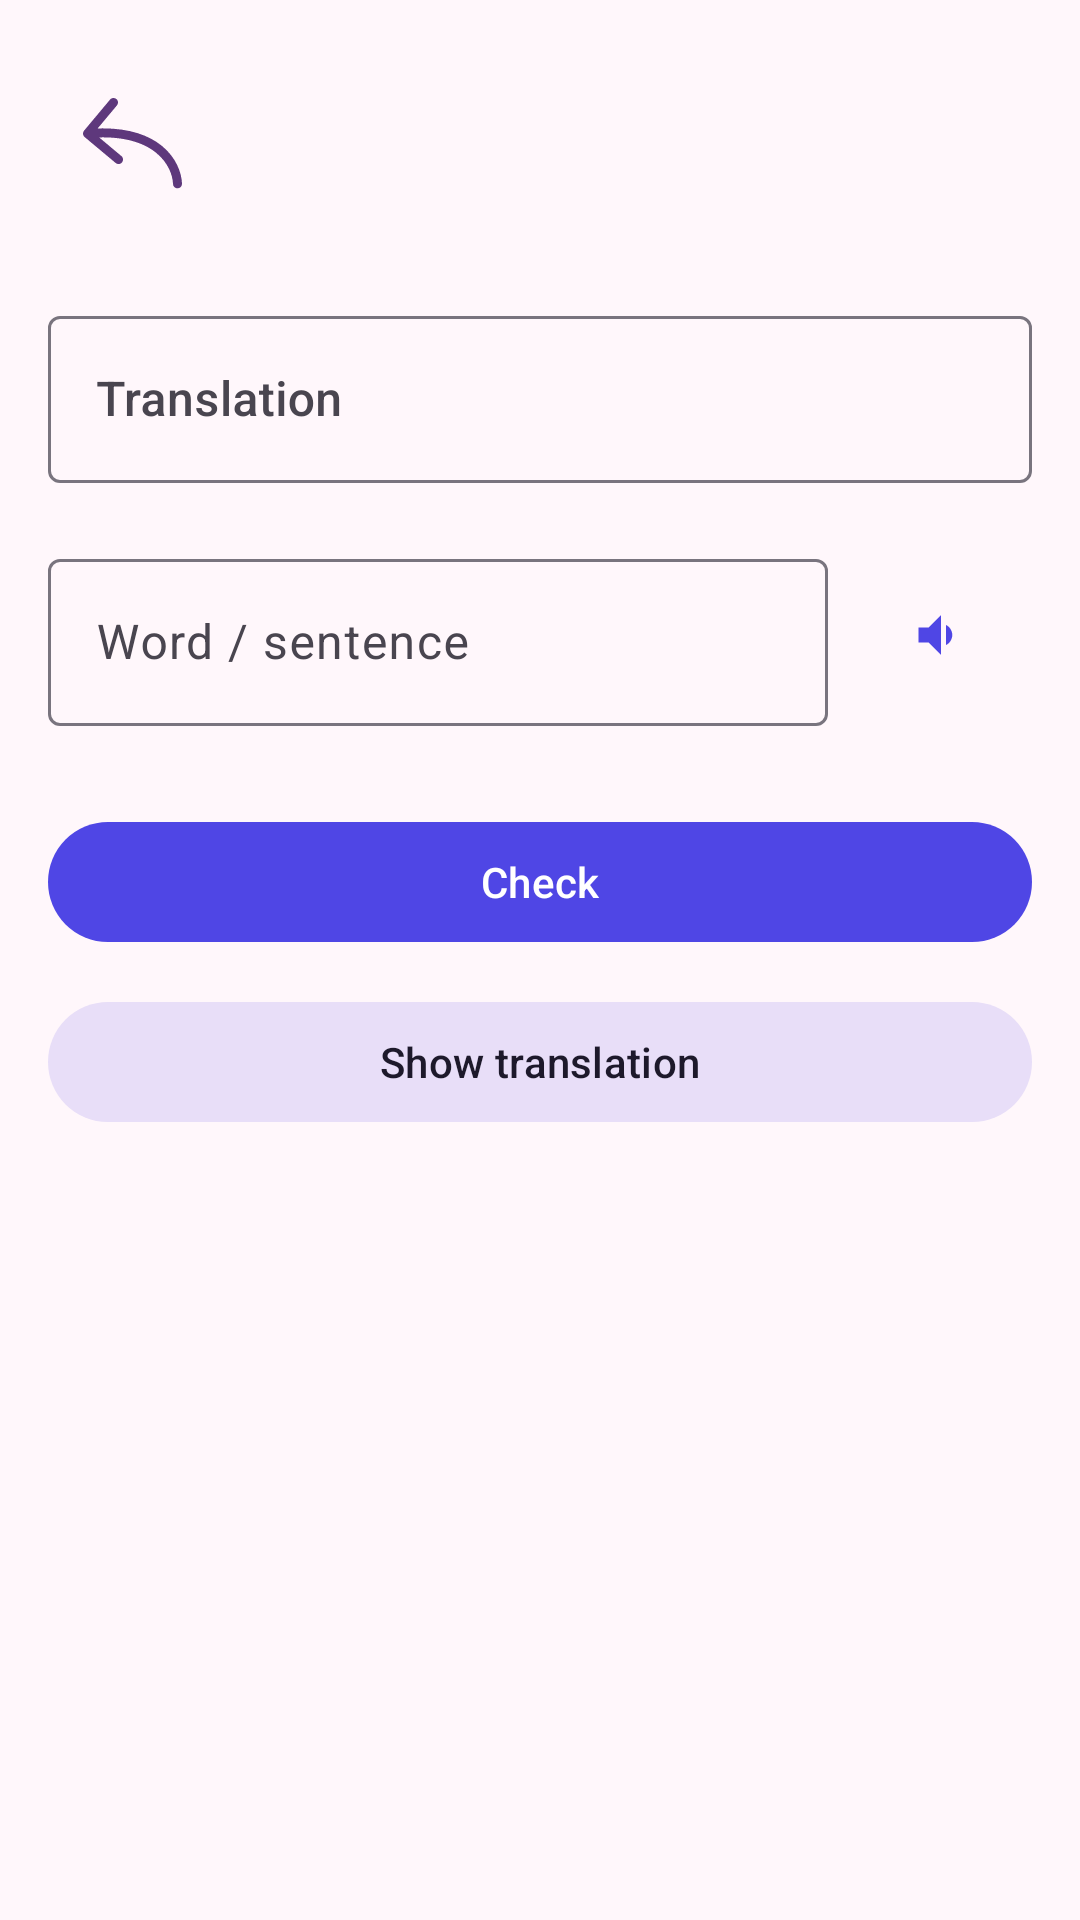

Named icons in this screenshot (1080*1920) and their bounding boxes, (x1, y1, x2, y2):
volume up: (918, 615, 953, 655)
